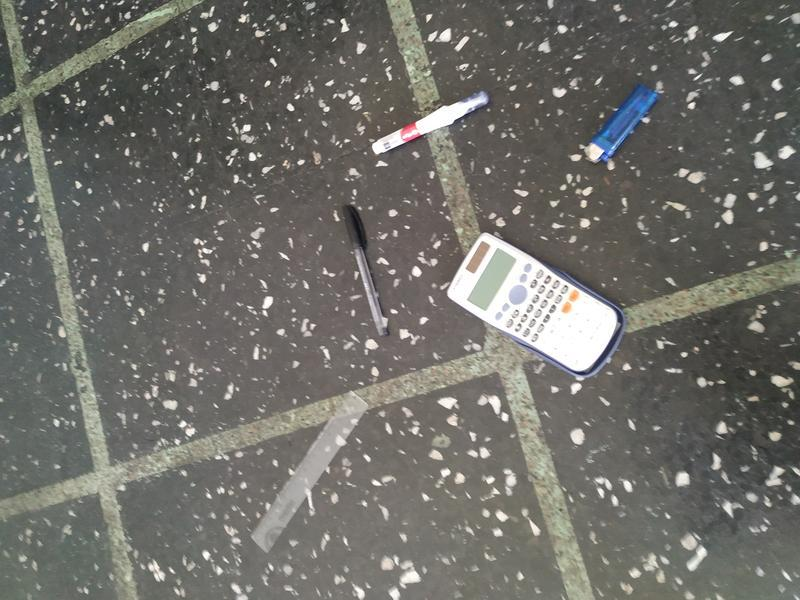calculadora: (440, 219, 626, 382)
corrector: (363, 88, 500, 169)
encendedor: (579, 79, 668, 165)
lapicera: (332, 197, 393, 343)
regla: (242, 386, 382, 560)
